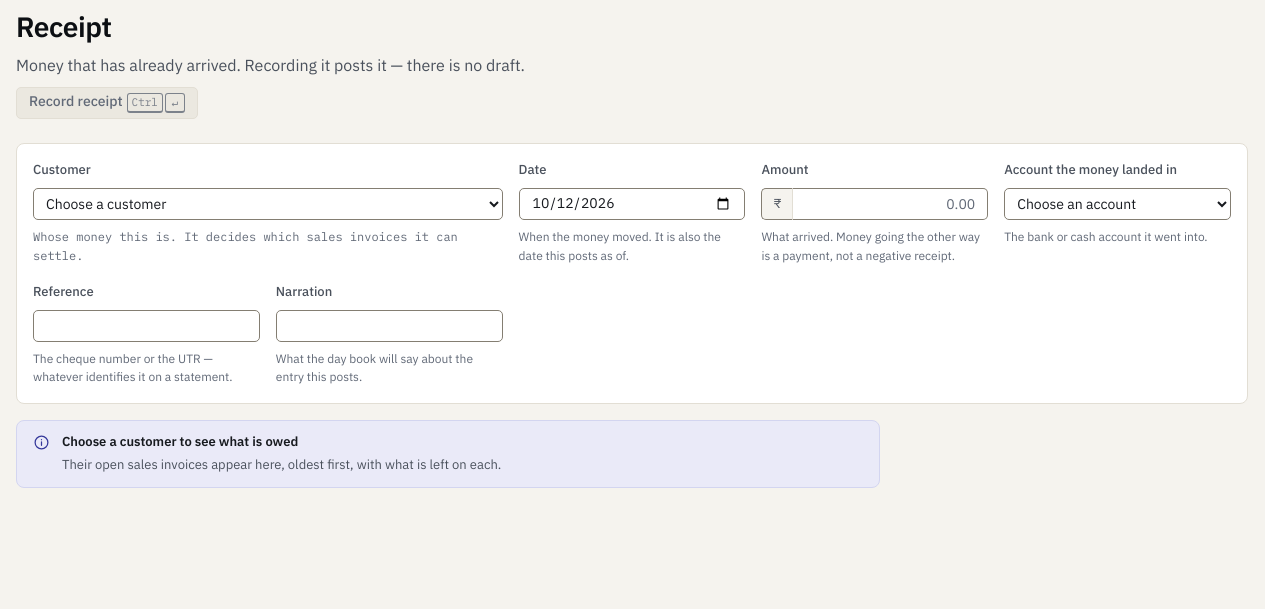
recording one › shows what main refused, in main own words
expect the button "Record receipt Ctrl ↵" is shown: met, box [16,87,198,119]
Select "Sunrise Components" in the dropdown labelled "Customer": (268, 204) [33,188,503,220]
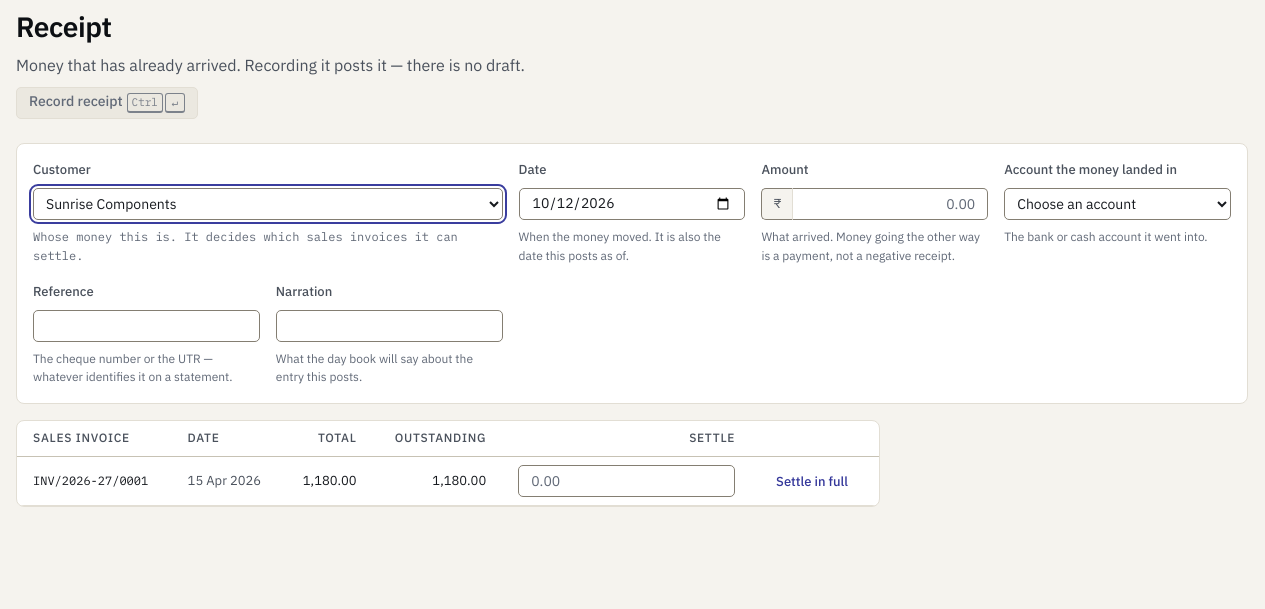
In the date field labelled "Date": (632, 204) [519,188,745,220], type "2026-04-20"
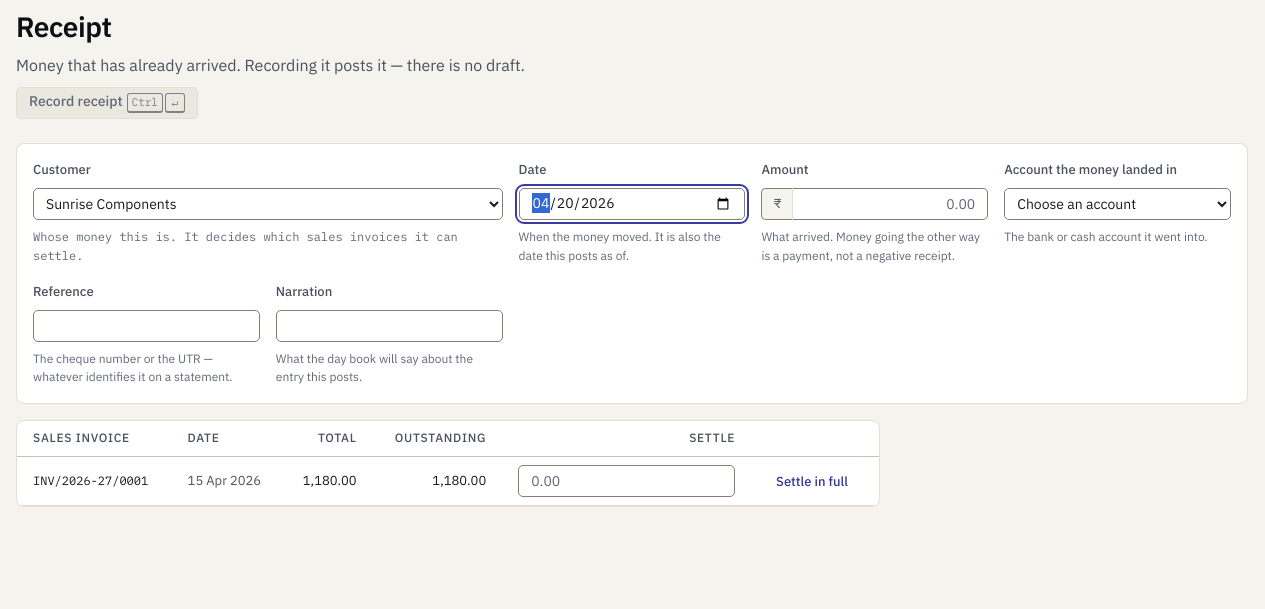
In the field labelled "Amount": (891, 204) [793,188,988,220], type "1180.00"
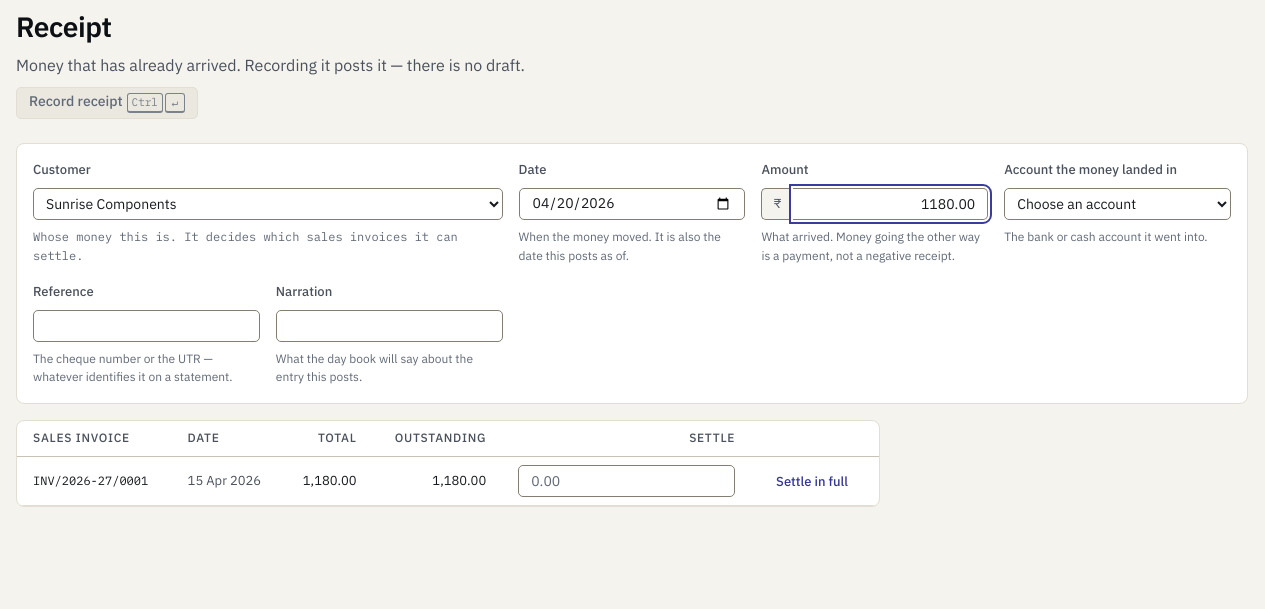
Select "1210 — Bank Account" in the dropdown labelled "Account the money landed in": (1118, 204) [1004,188,1231,220]
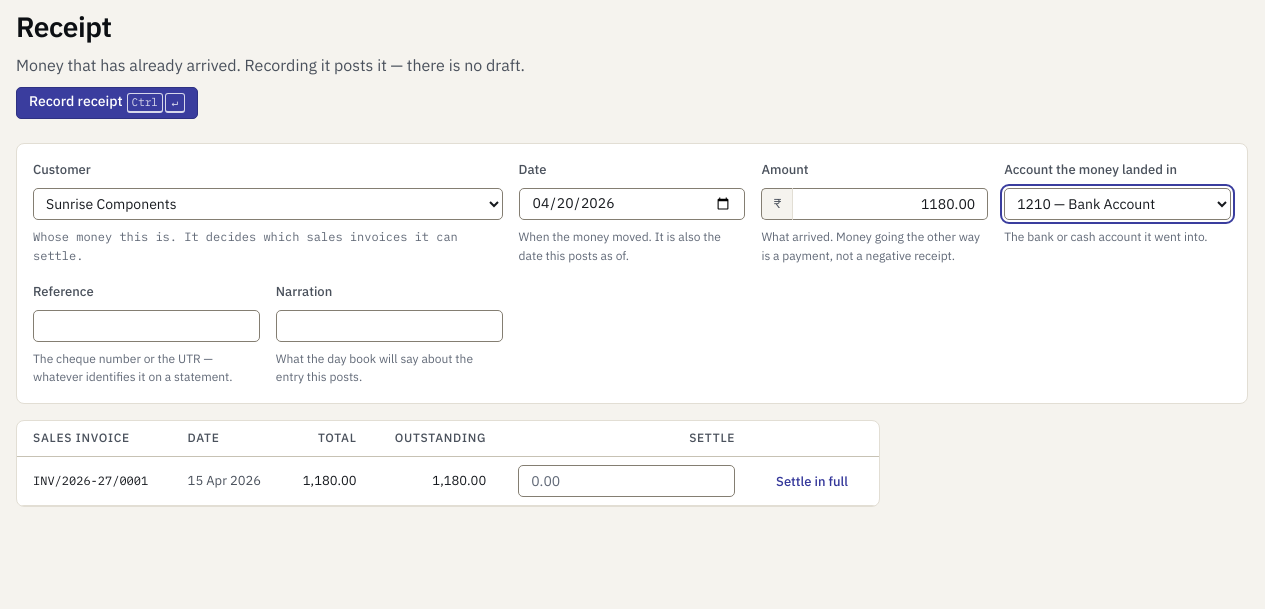
Click the button "Record receipt Ctrl ↵": (107, 103) [16,87,198,119]
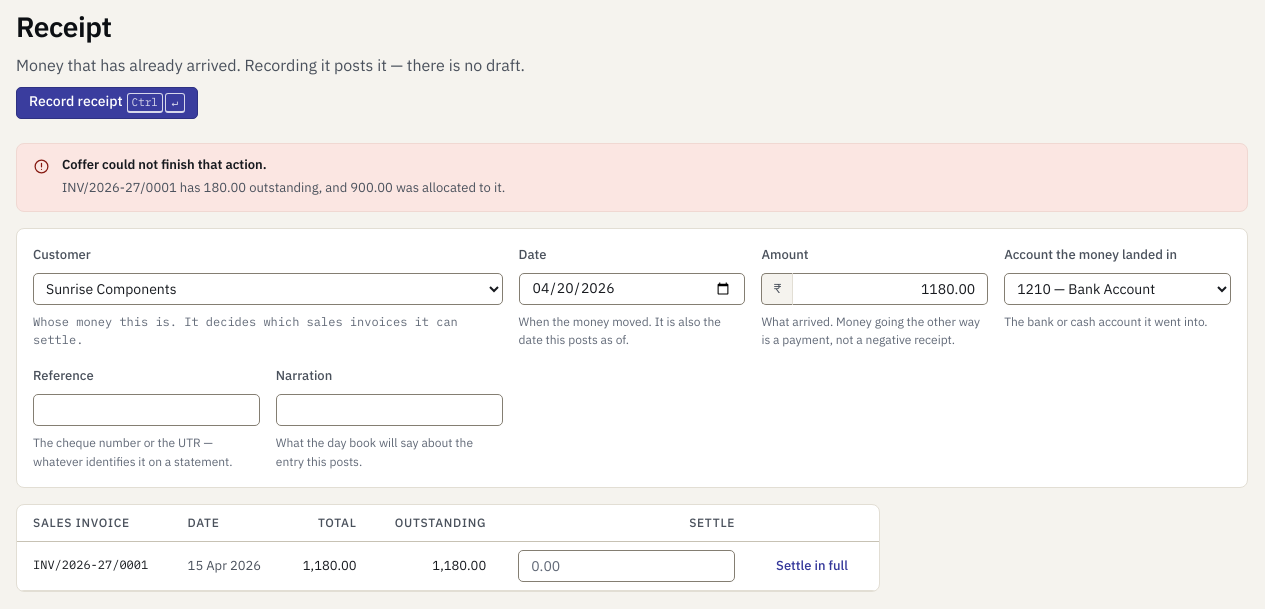
expect the text "has 180.00 outstanding, and 900.00 was allocated" is shown: met, box [62,179,505,196]
